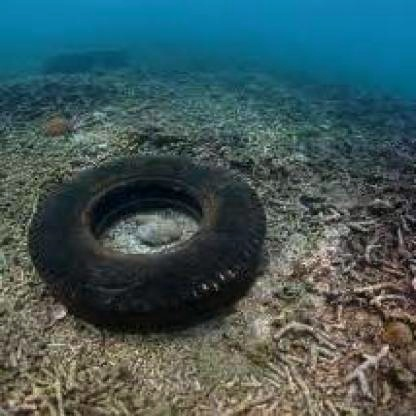tire: (15, 154, 282, 322)
